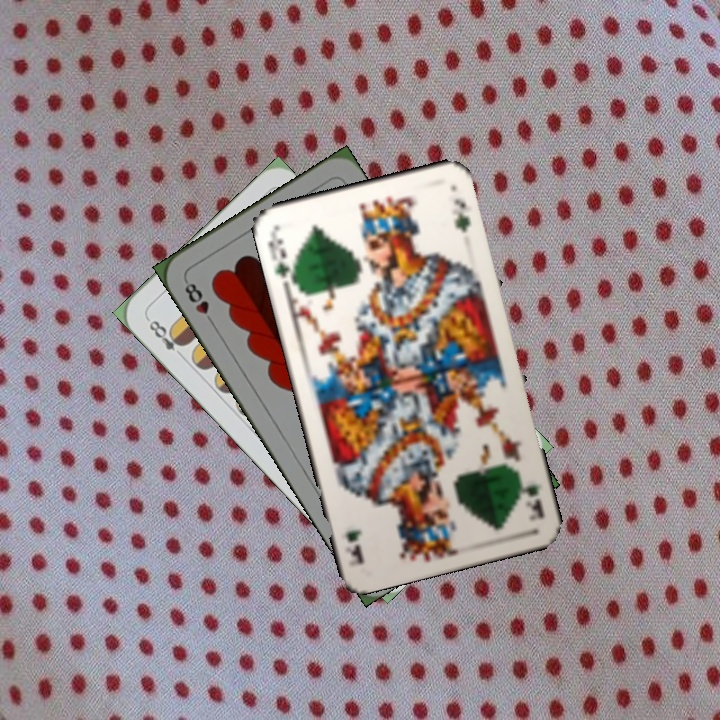E8: (143, 313, 189, 361)
GK: (263, 229, 300, 288), (512, 467, 548, 523)
H8: (180, 276, 218, 329)
